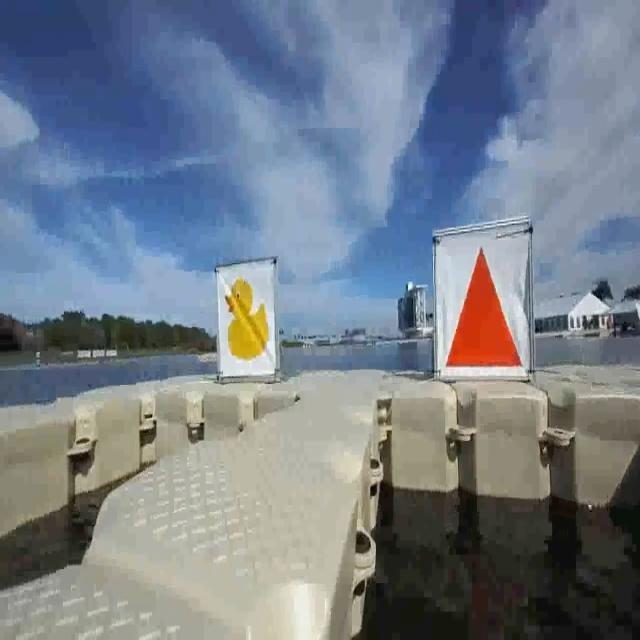red-dot: (433, 228, 525, 371)
yellow-duck: (215, 262, 276, 378)
